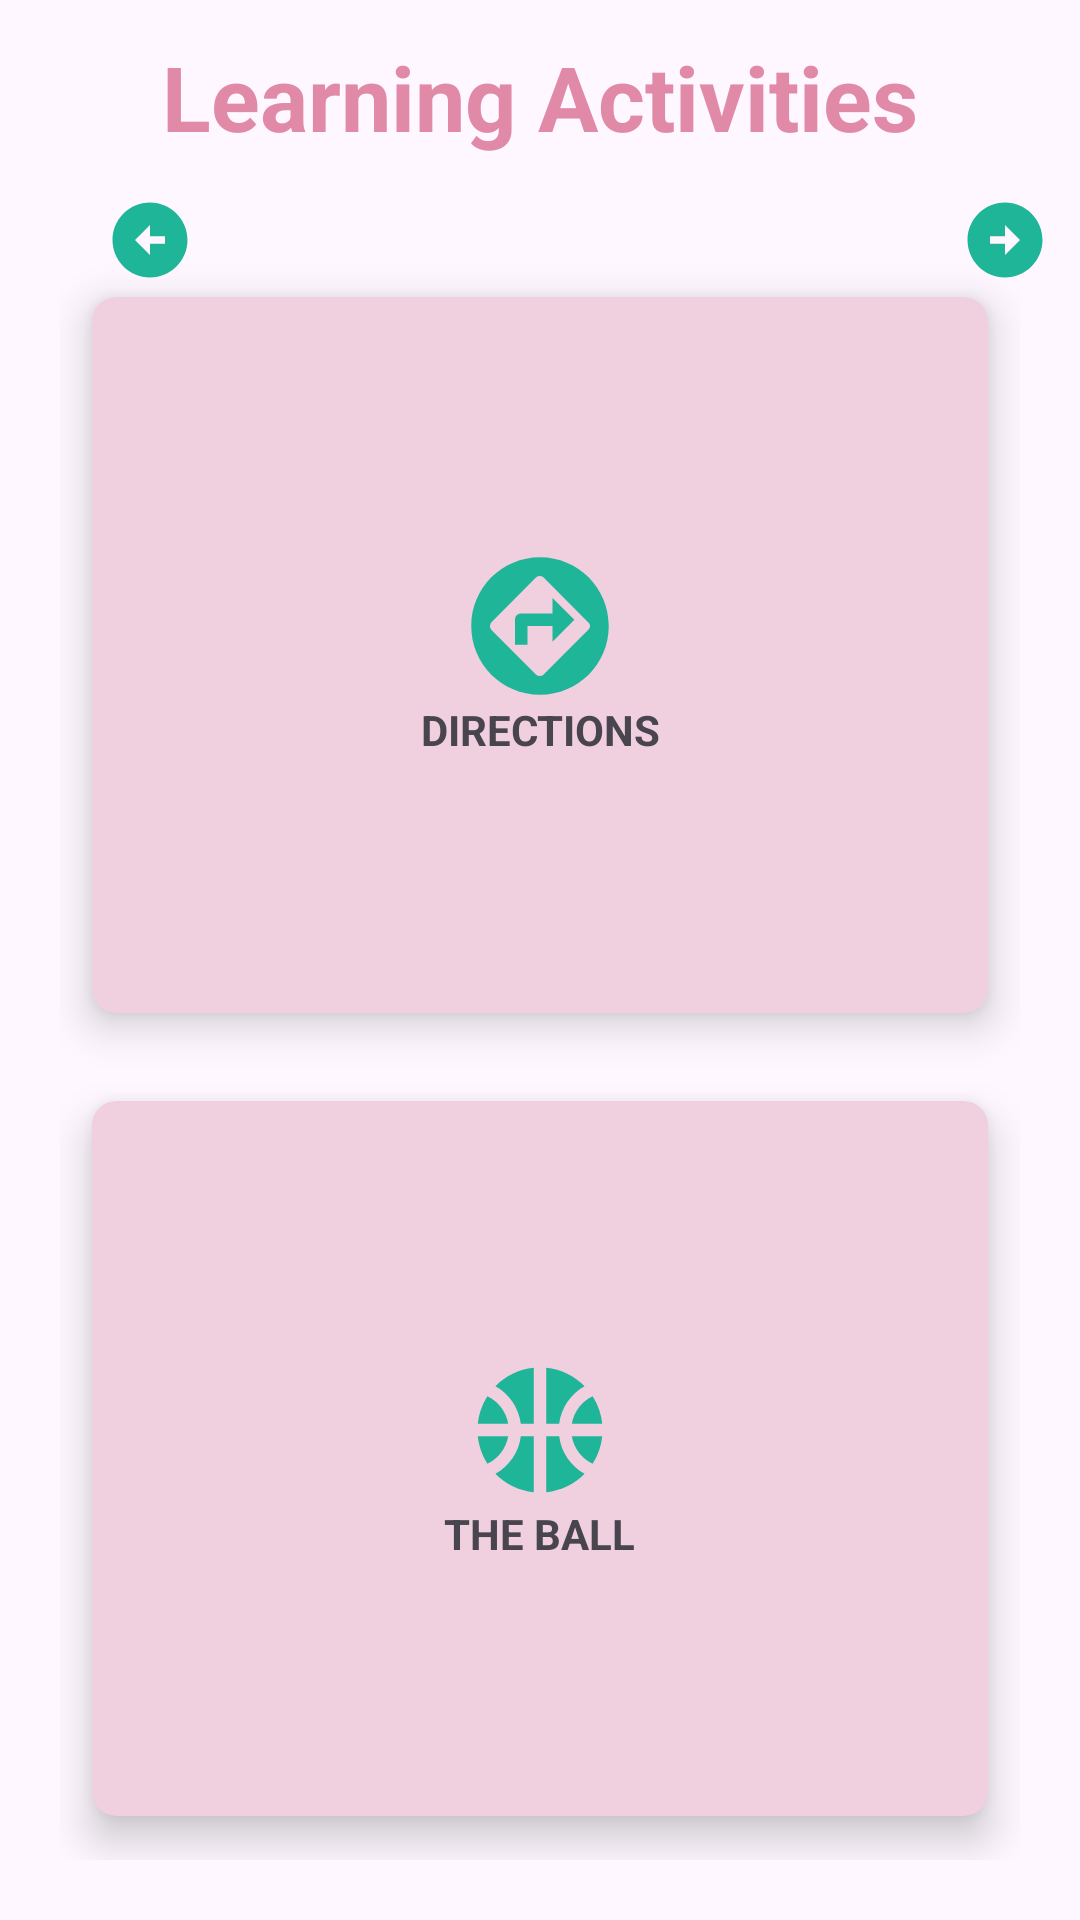

Named icons in this screenshot (1080 × 1920) and their centers, point (x, y):
arrow circle left: point (150, 240)
arrow circle right: point (1005, 240)
sports basketball: point (540, 1430)
